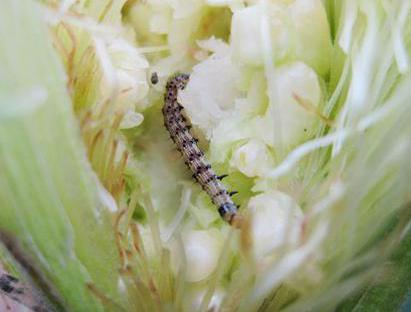caterpillars: (149, 43, 267, 244)
